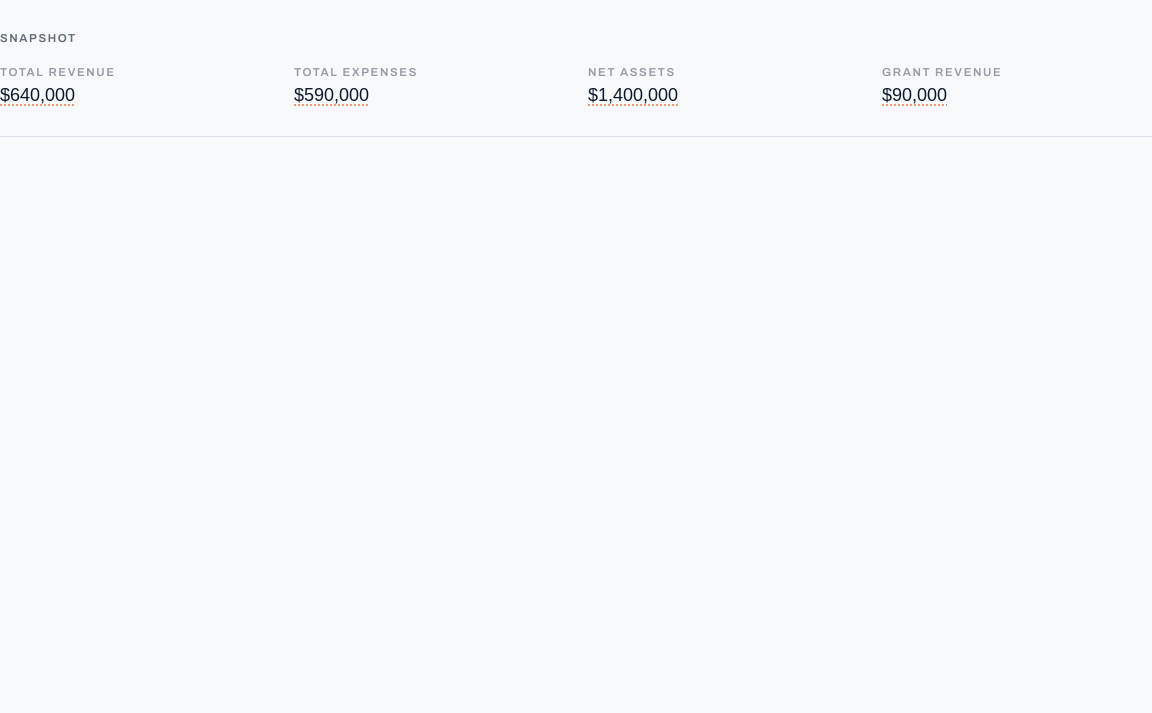
profile components › opens the source drawer from a snapshot fact
The image size is (1152, 713).
Click the button "$640,000" at (38, 95), box [0,86,75,104]
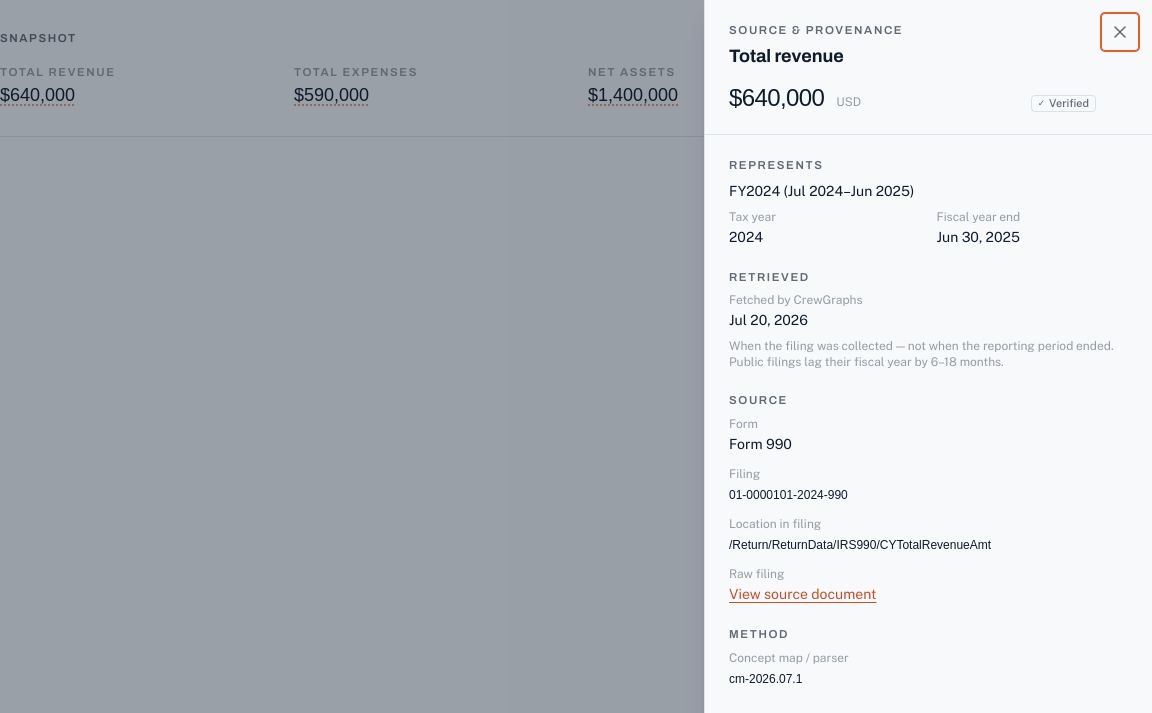
Now the text "FY2024 (Jul 2024–Jun 2025)" is shown, box [729,183,914,199]
Now the text "/Return/ReturnData/IRS990/CYTotalRevenueAmt" is shown, box [729,538,991,552]
